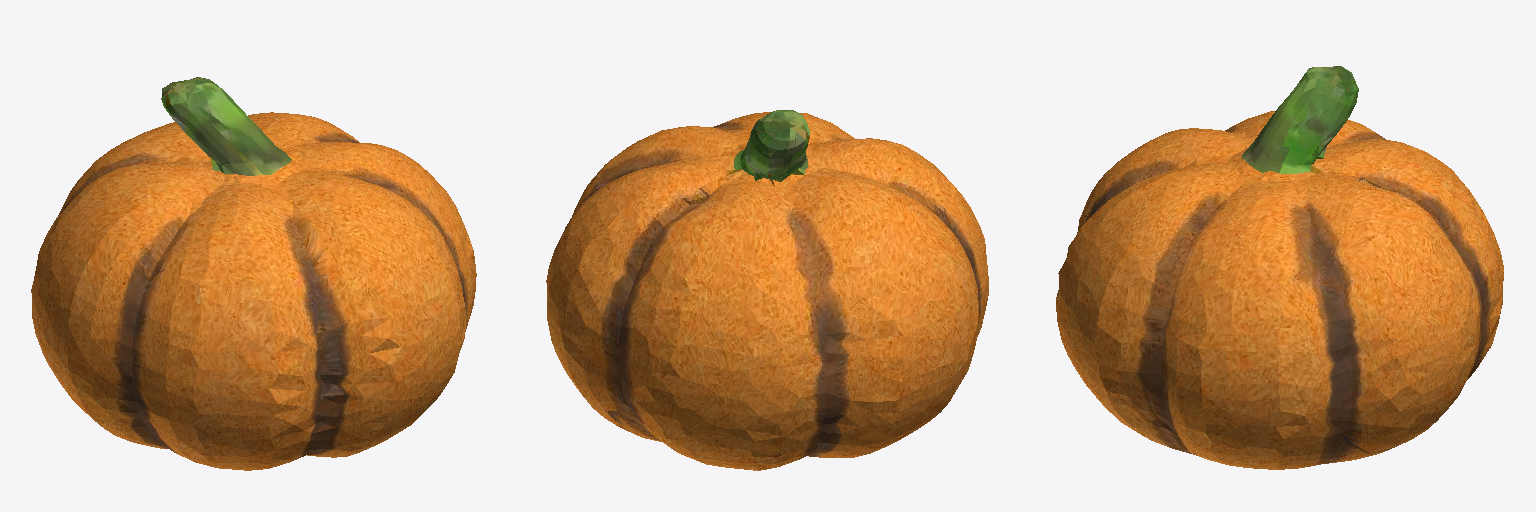
3 views of the same model, side by side, from view 1: azimuth 30°, elevation 25°; view 2: azimuth 150°, elevation 25°; view 3: azimuth 270°, elevation 25° (orthographic).
Parts seen in each view (by area): view 1: Cube; view 2: Cube; view 3: Cube.
Part boxes in pixels (x1,y1,x2,y2): Cube: (31,77,476,470); Cube: (546,110,988,470); Cube: (1056,66,1503,469).
Bounding box in the file's own units: 3.05 × 2.5 × 3.04.
1 materials, 1 textured.